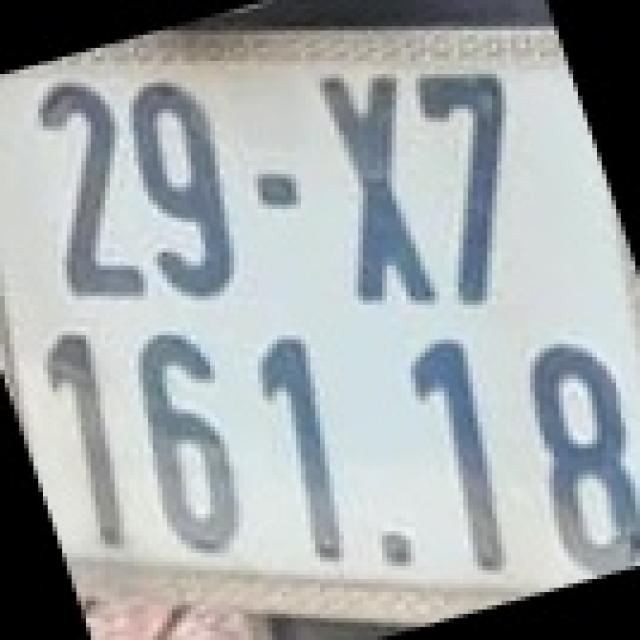1: (406, 336, 511, 570), (38, 331, 129, 548)
2: (34, 78, 144, 300)
6: (134, 331, 244, 557)
7: (258, 331, 358, 562), (425, 70, 511, 304)
8: (525, 335, 640, 566)
9: (134, 78, 239, 300)
X: (324, 70, 434, 304)
